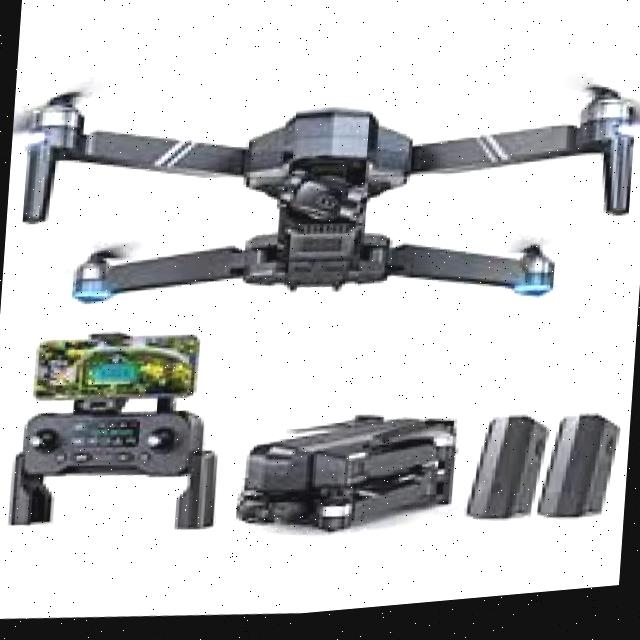drone: (0, 18, 640, 359)
